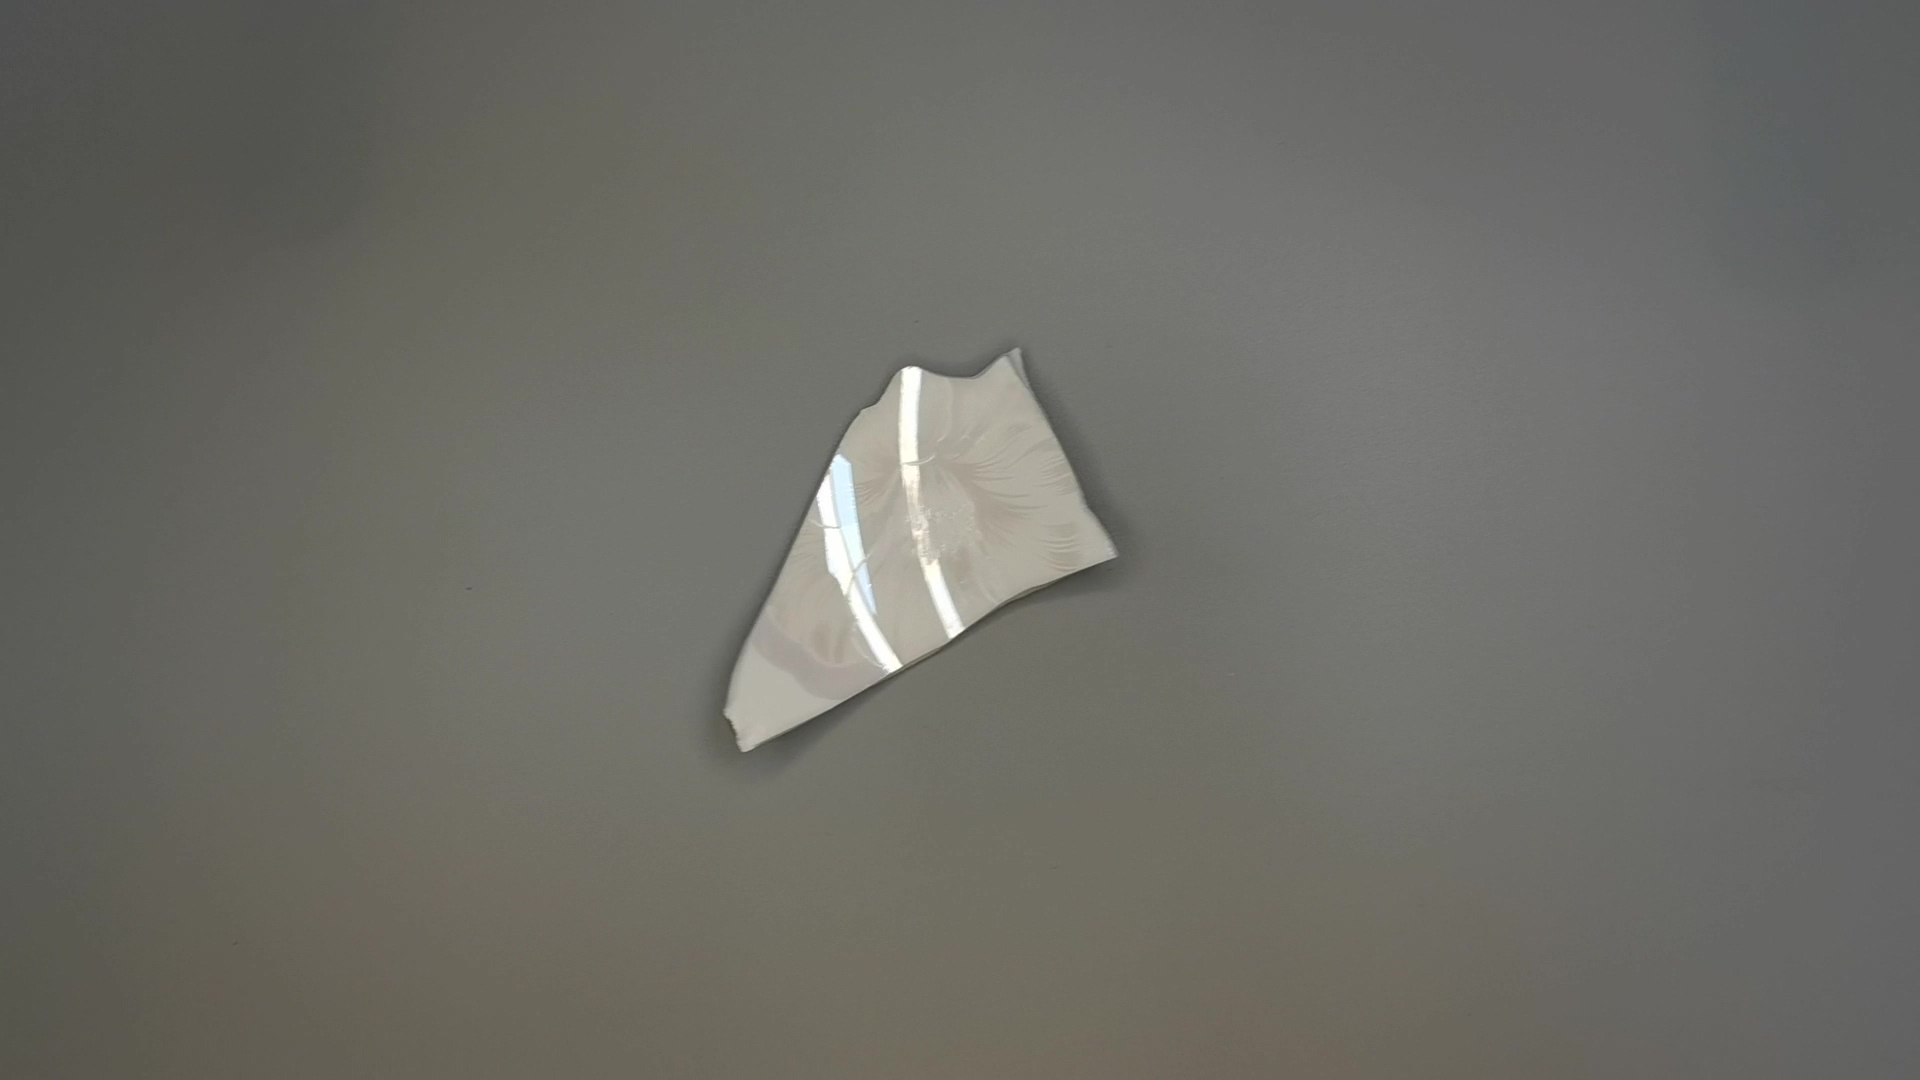ceramic: (708, 338, 1137, 758)
